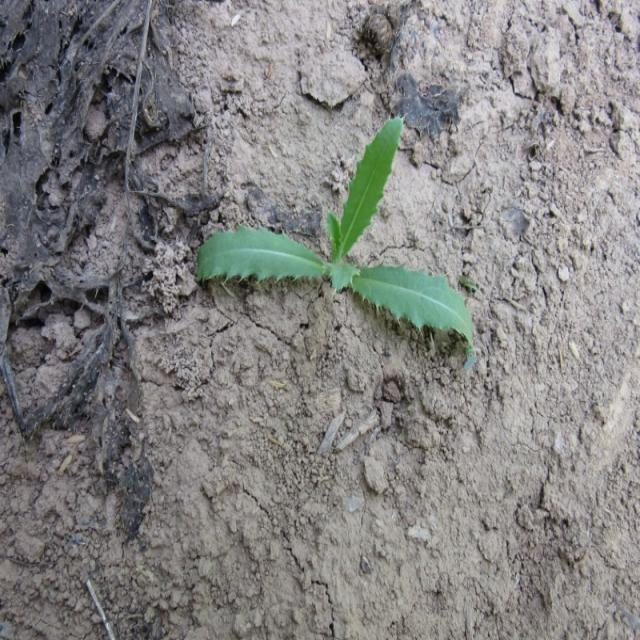field_thistle: (182, 91, 492, 416)
